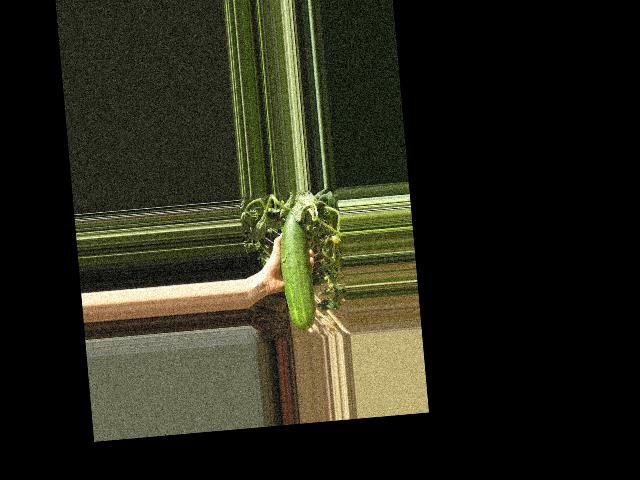cucumber: (276, 207, 317, 331)
